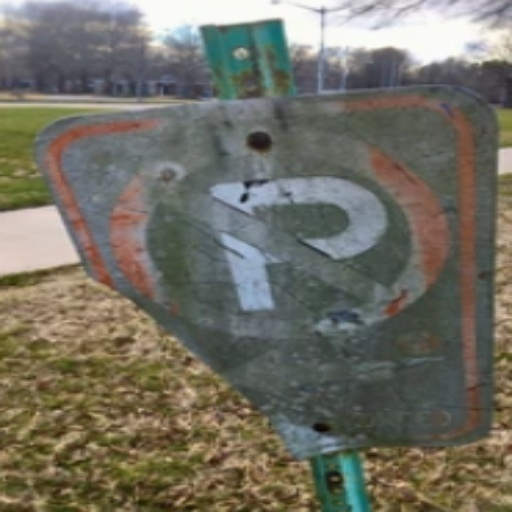No parking: (108, 121, 464, 378)
